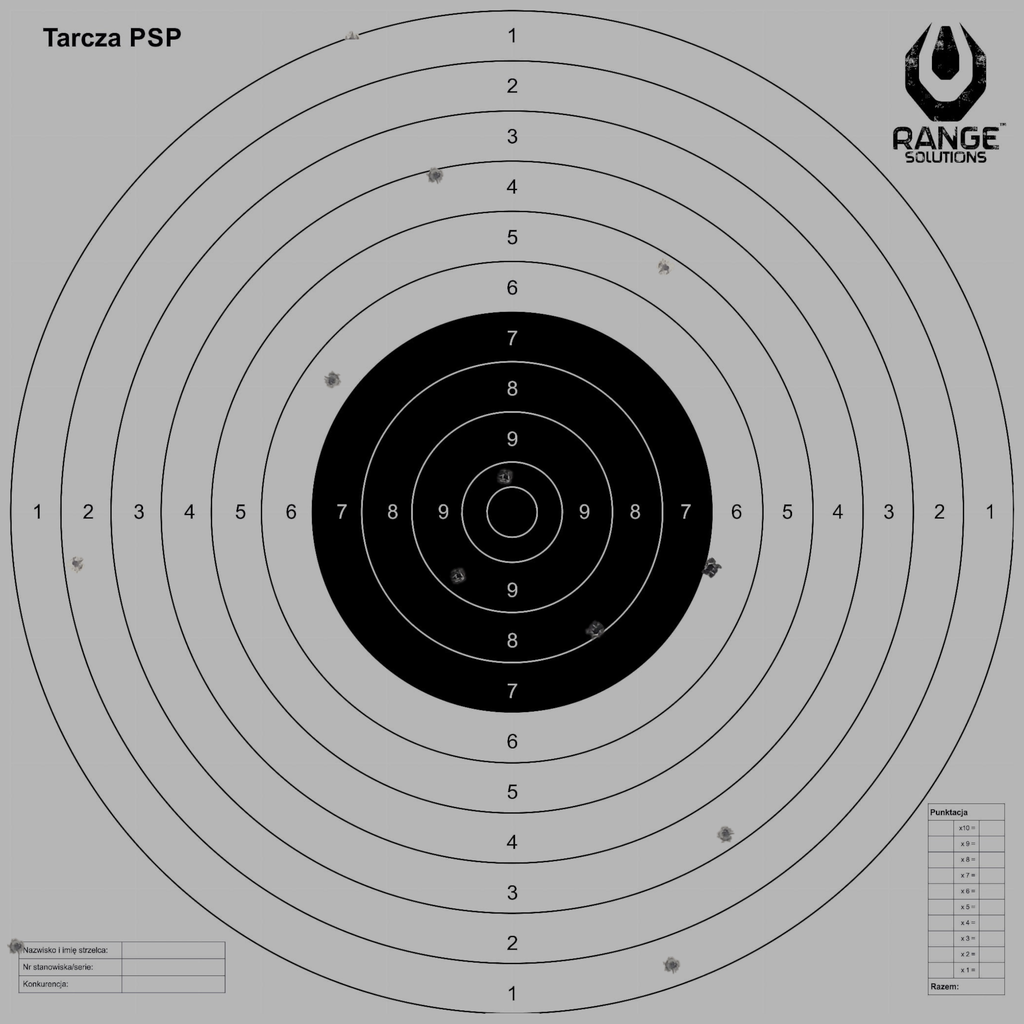0 punktow: (8, 937, 26, 956)
1 punkt: (663, 956, 682, 974)
10 punktow: (497, 468, 515, 487)
2 punkty: (67, 554, 85, 573)
3 punkty: (716, 824, 735, 843)
4 punkty: (427, 166, 445, 185)
5 punktow: (656, 258, 675, 277)
6 punktow: (323, 371, 341, 390)
7 punktow: (701, 559, 720, 577)
8 punktow: (587, 622, 605, 640)
9 punktow: (450, 567, 468, 585)
